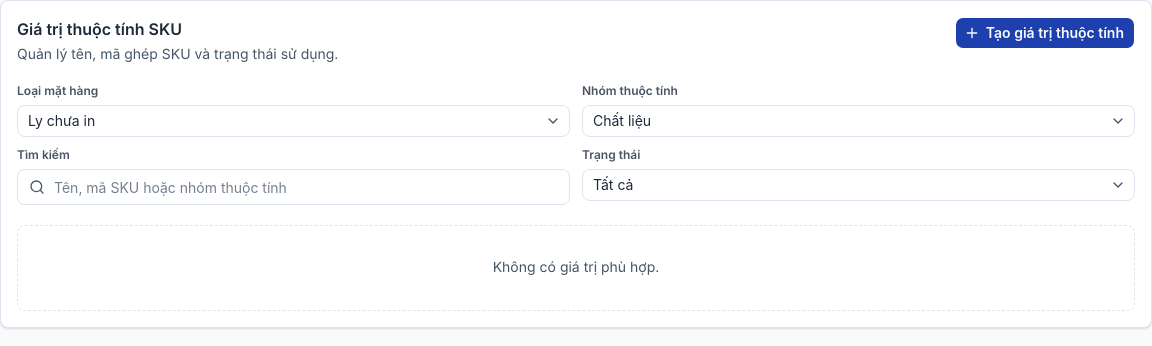
it: product SKU creation › uses the live PACKAGING template fields in the SKU option admin
What coordinates should you click on to do the following:
click the dropdown named "Loại mặt hàng"
I would click on:
 (62, 120)
Its box is [17, 105, 570, 137].
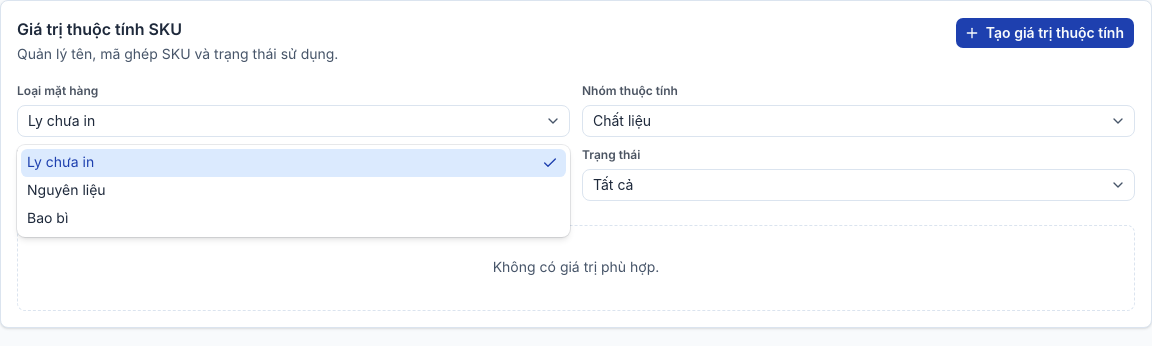
What coordinates should you click on to do the following:
click the option "Bao bì"
I would click on:
 (48, 218)
Its box is [27, 210, 68, 227].
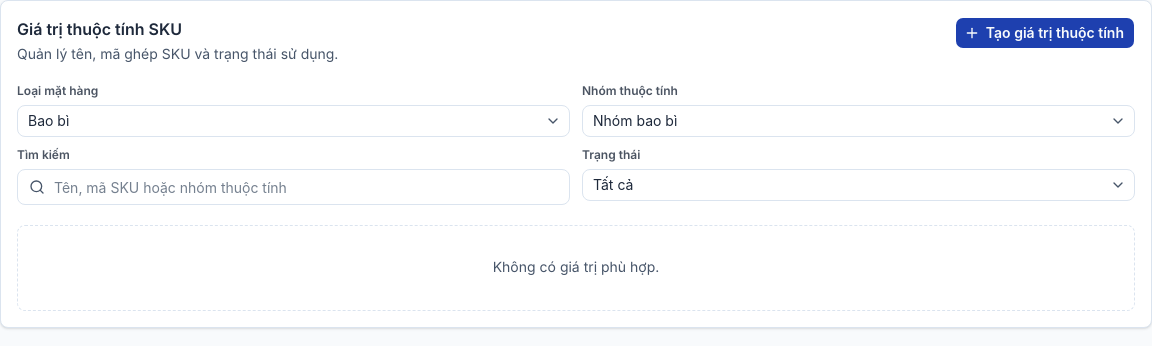
What coordinates should you click on to do the following:
click the dropdown named "Nhóm thuộc tính"
I would click on:
 (635, 120)
Its box is [582, 105, 1135, 137].
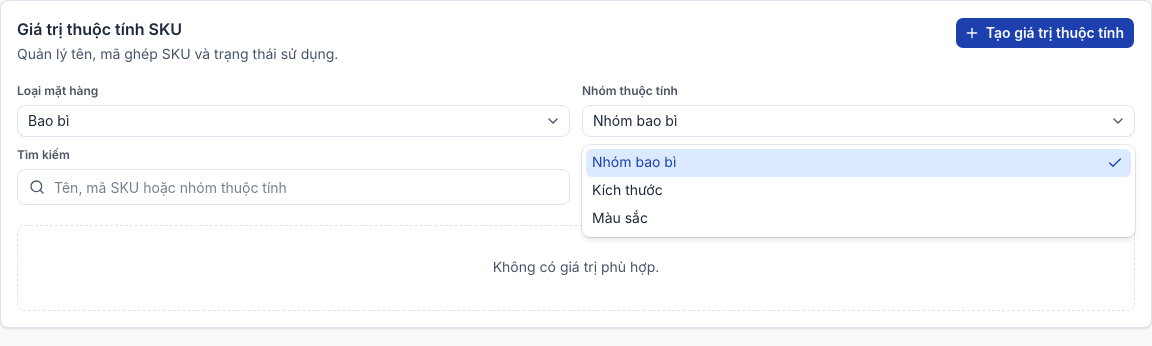
Expected: the option "Nhóm bao bì" is shown, [586, 149, 1131, 177]
Expected: the option "Kích thước" is shown, [592, 182, 663, 199]
Expected: the option "Màu sắc" is shown, [592, 210, 648, 227]
